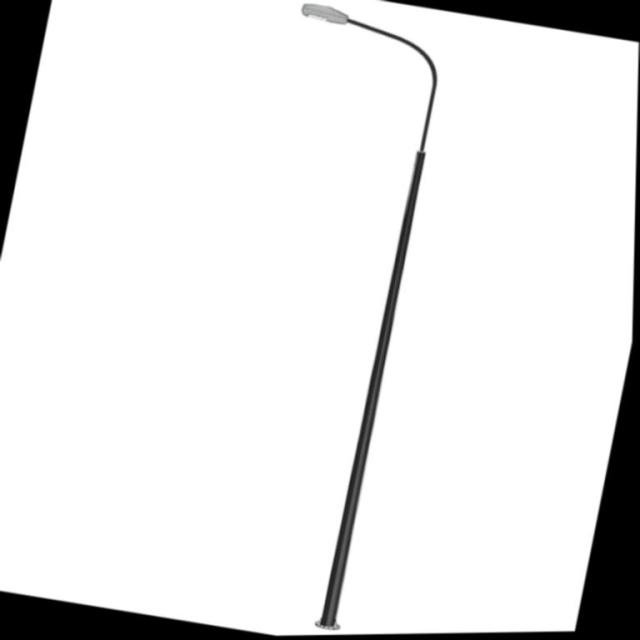pole: (313, 194, 416, 623)
